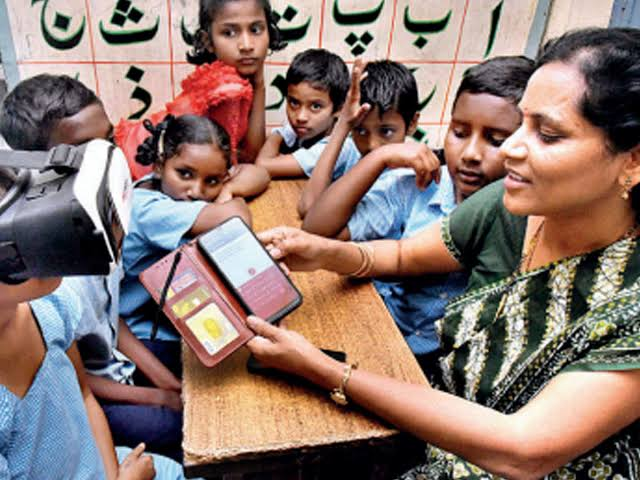student: (441, 54, 528, 198), (135, 114, 233, 203), (344, 62, 420, 155), (187, 1, 282, 75), (282, 54, 341, 138)
